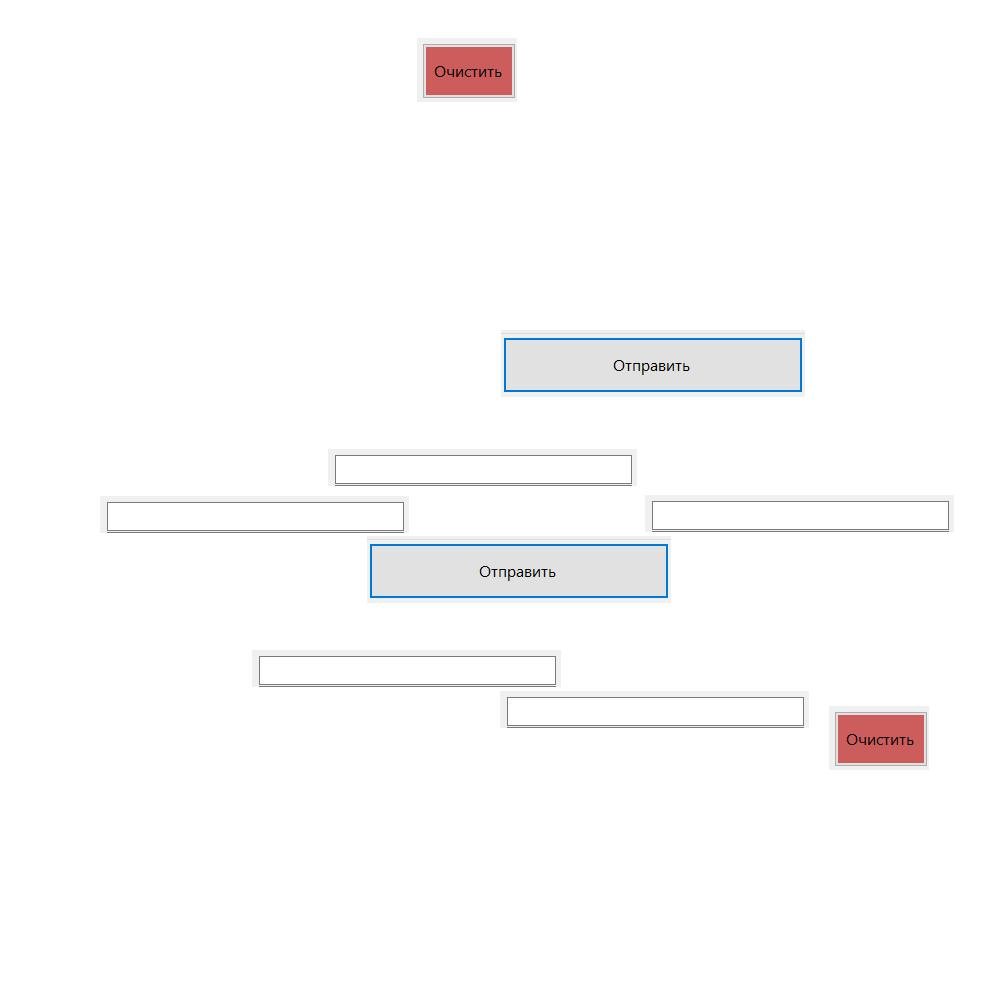Button: (501, 330, 805, 397), (367, 536, 671, 603), (829, 706, 929, 770), (417, 38, 517, 102)
EditText-: (100, 496, 409, 533), (645, 495, 954, 532), (328, 449, 637, 486), (252, 650, 561, 687), (500, 691, 809, 728)
